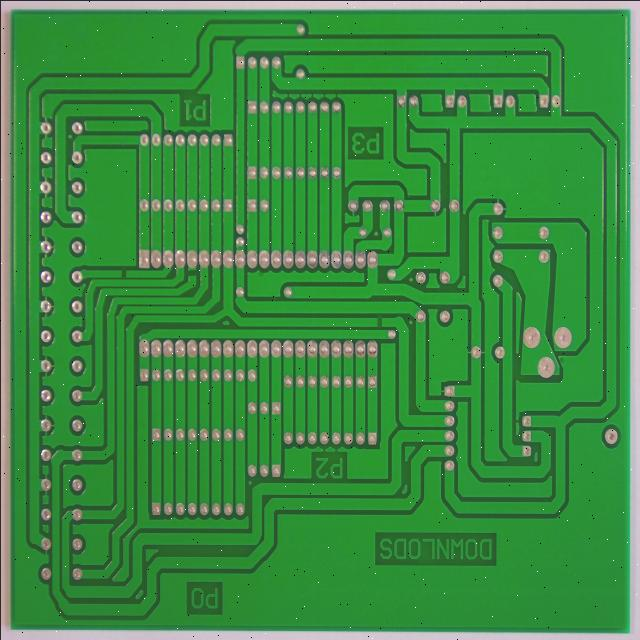open_circuit: (381, 326, 396, 343), (117, 276, 131, 292), (190, 276, 203, 290)
